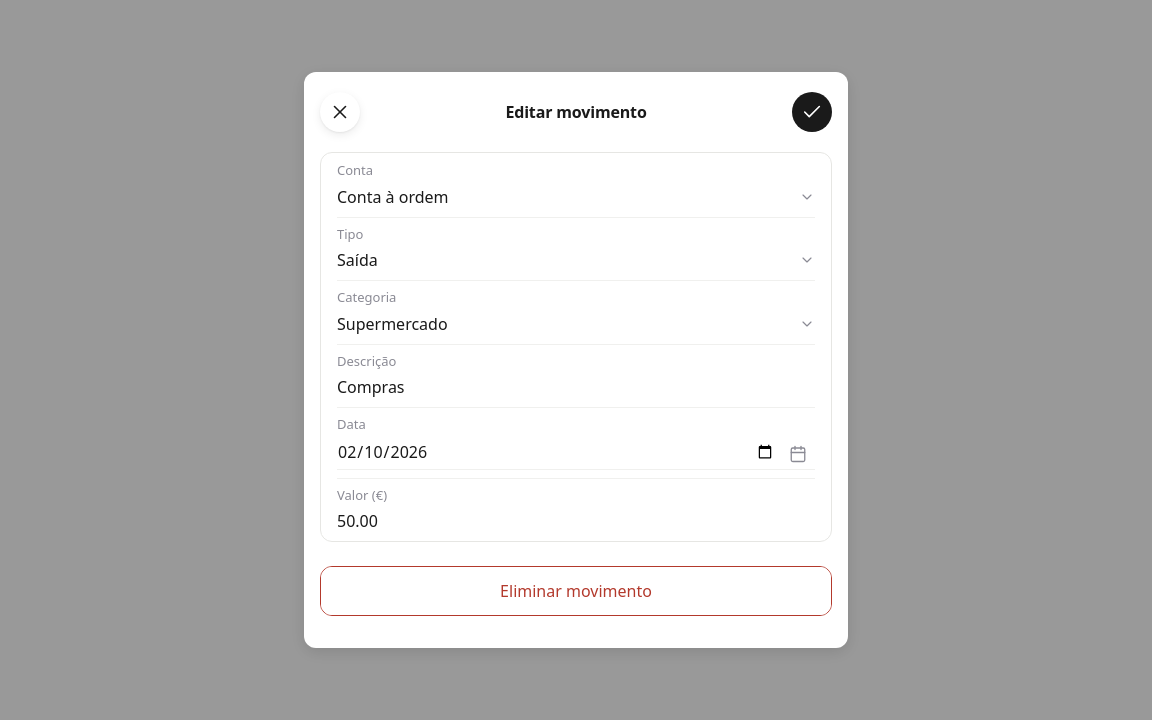
Test: Página Editar movimento › se eliminar falhar, mostra o erro junto ao botão — sem perder o formulário
The width and height of the screenshot is (1152, 720).
Click the button "Eliminar movimento".
click(576, 591)  # box [321, 567, 831, 615]
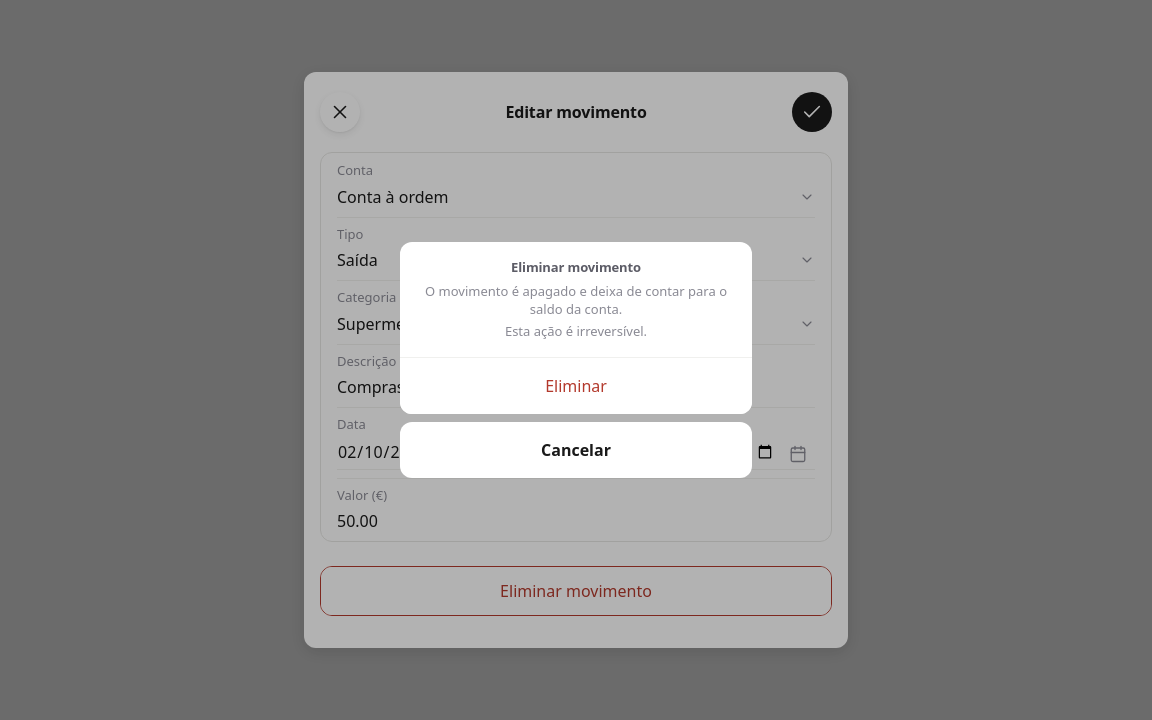
Click the button "Eliminar".
click(576, 386)  # box [400, 358, 752, 414]
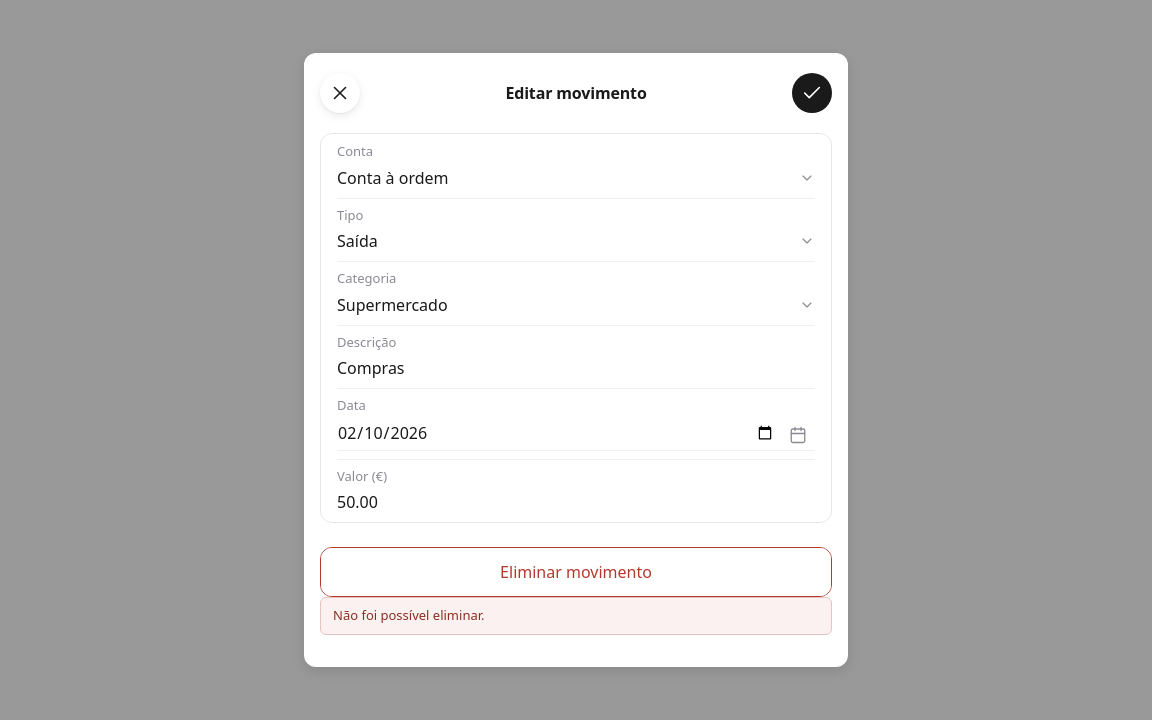
Expected: the dialog "Editar movimento" is shown, [304, 53, 848, 667]
Result: the text "Não foi possível eliminar." is shown at [320, 597, 832, 635]
